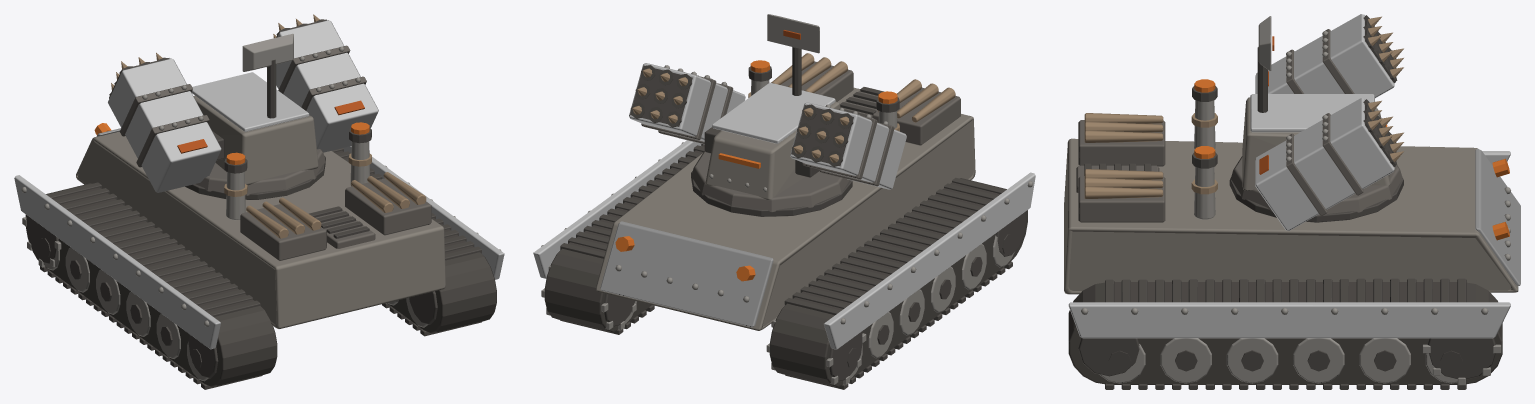
File: crucible_missile_tank.glb
3 renders of one model, left to right at view 1: azimuth 30°, elevation 25°; view 2: azimuth 150°, elevation 25°; view 3: azimuth 270°, elevation 25°, orthographic. The views are drawn at different scales.
Parts seen in each view (by area): view 1: Body, Turret; view 2: Body, Turret; view 3: Body, Turret.
Boxes of the visible parts, box(x1,y1,x2,y2) form: Body: box(14, 122, 504, 389); Turret: box(108, 14, 378, 195); Body: box(533, 53, 1035, 389); Turret: box(629, 14, 906, 212); Body: box(1064, 79, 1520, 389); Turret: box(1231, 14, 1403, 230).
Bounding box in the file's own units: 1.82 × 1.53 × 2.2.
